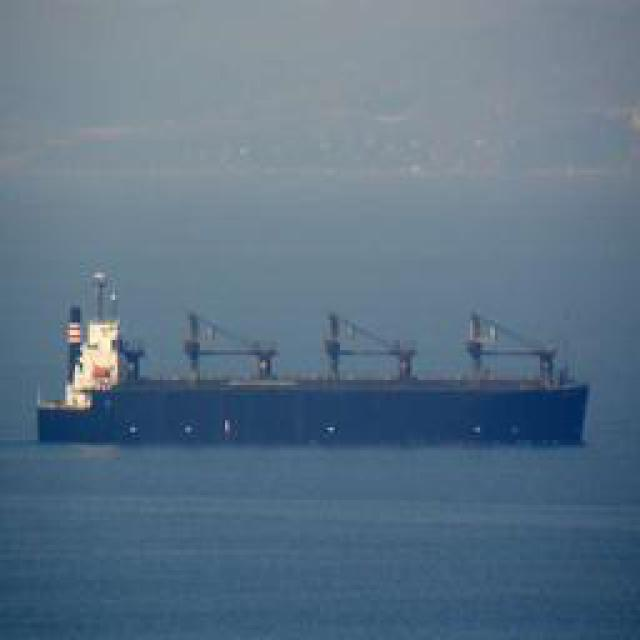Ship: (35, 291, 590, 451)
